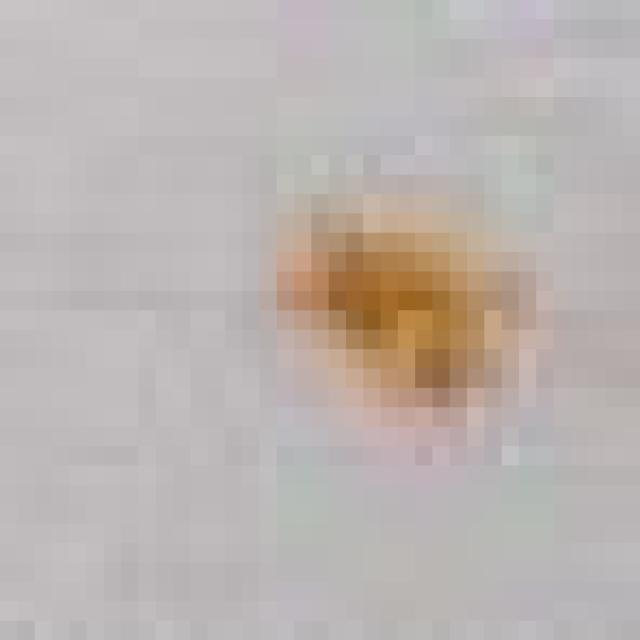stains: (276, 194, 552, 464)
